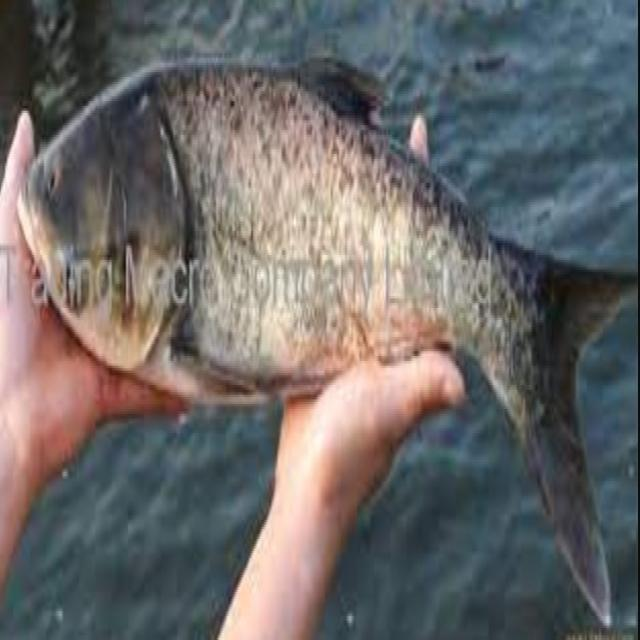Big-Head-Carp: (14, 44, 636, 630)
